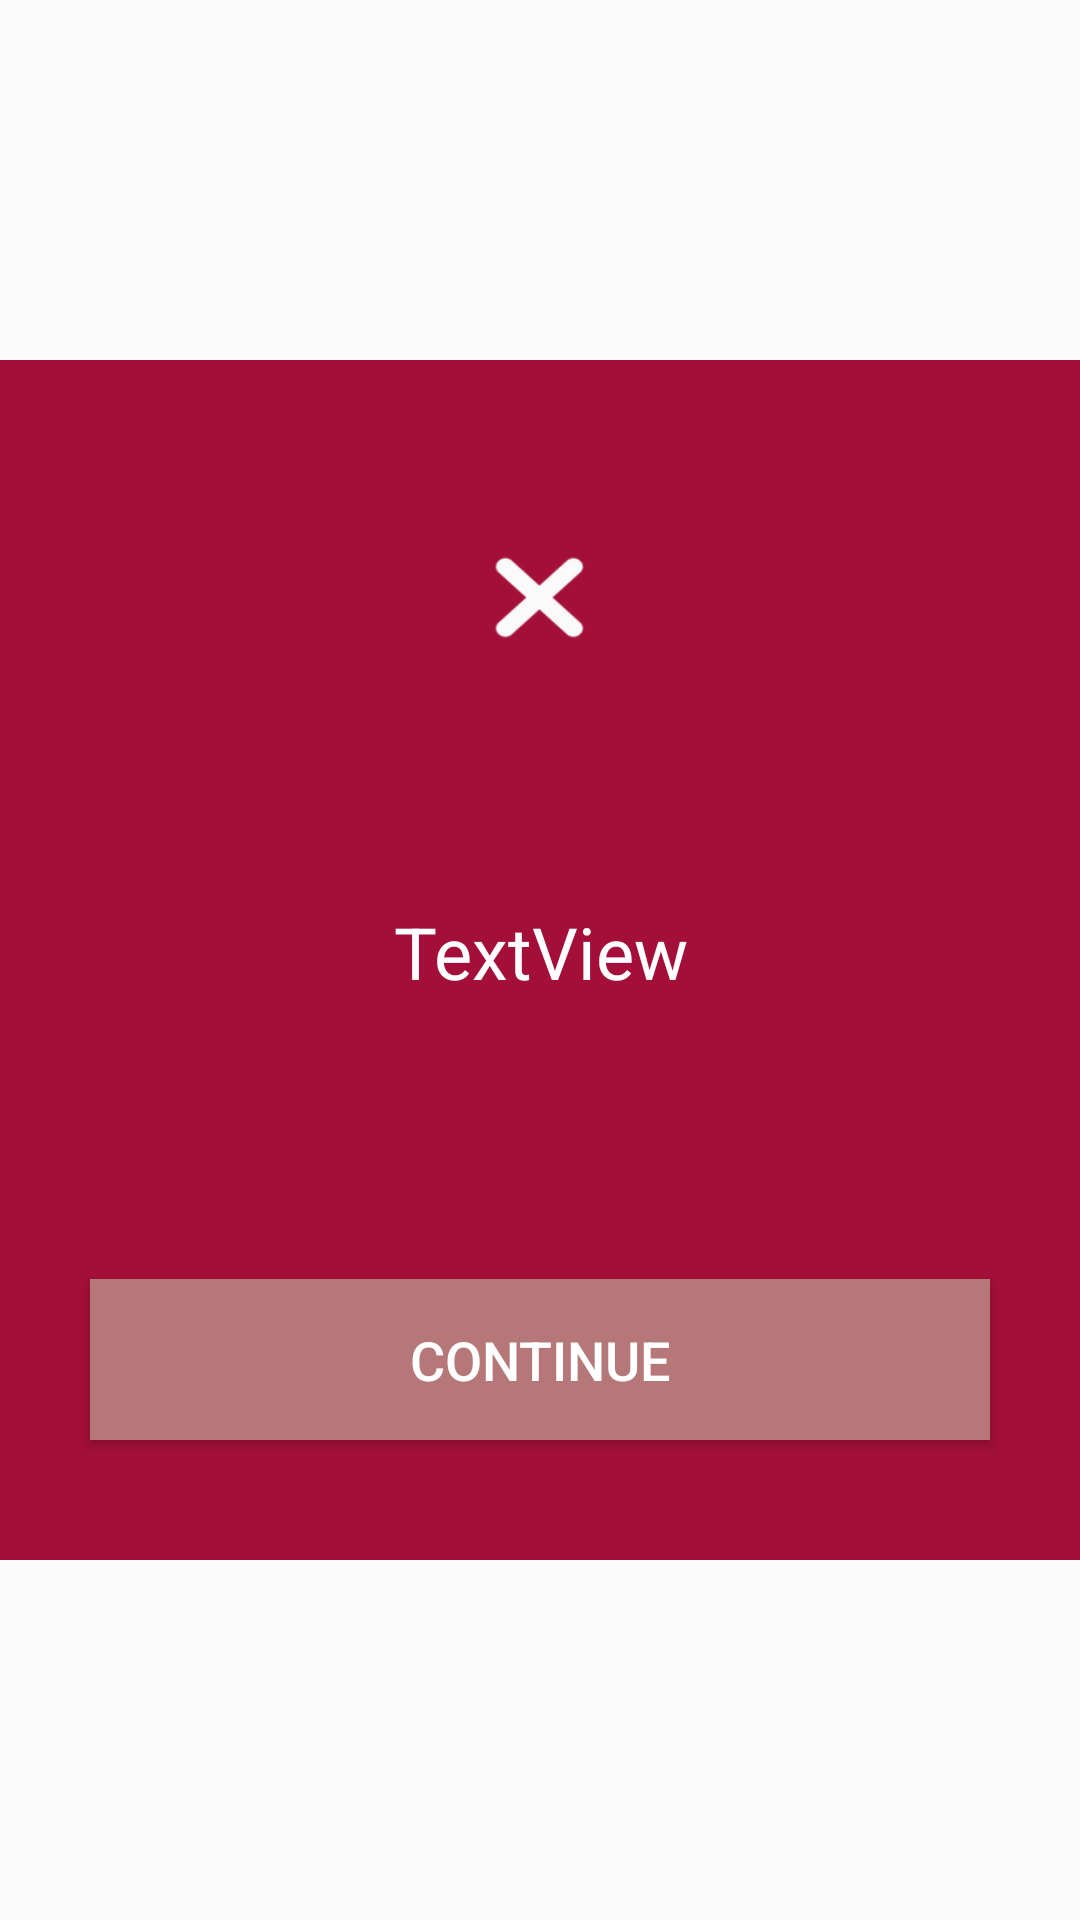

Icons on this 1080*1920 Android screen, each with the point to tap as point (x, y):
cross: point (539, 597)
